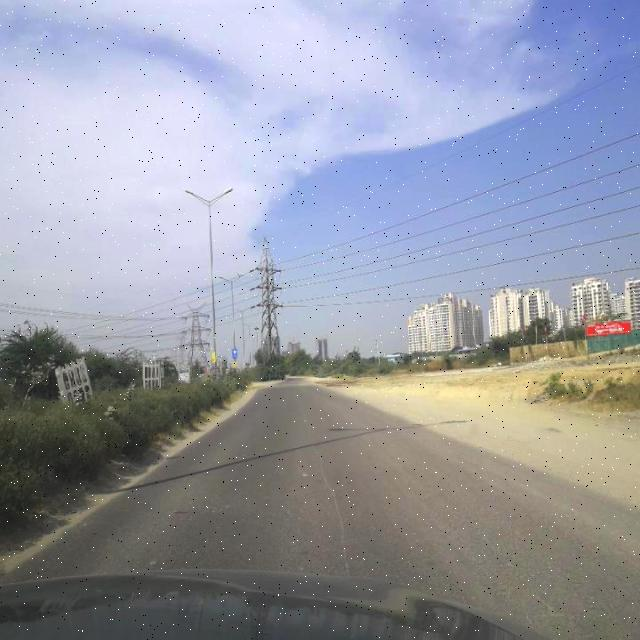D00: (300, 411, 354, 574), (527, 586, 572, 620)
